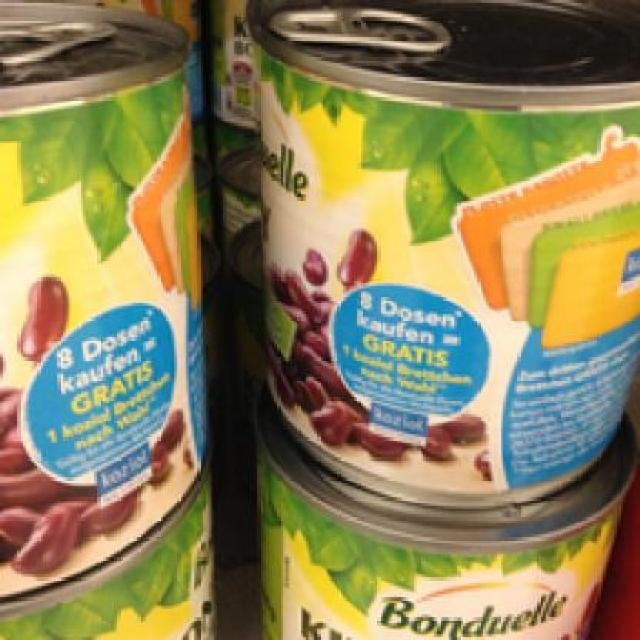Beans: (245, 0, 638, 506), (0, 29, 200, 592)
